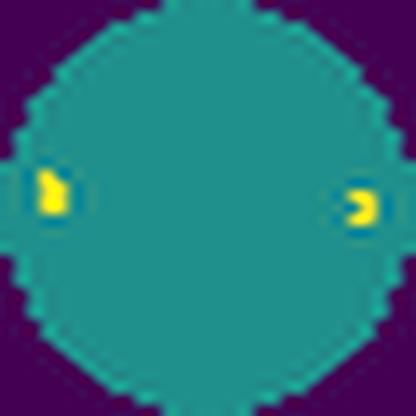Loc: (33, 167, 70, 216), (344, 187, 381, 227)
